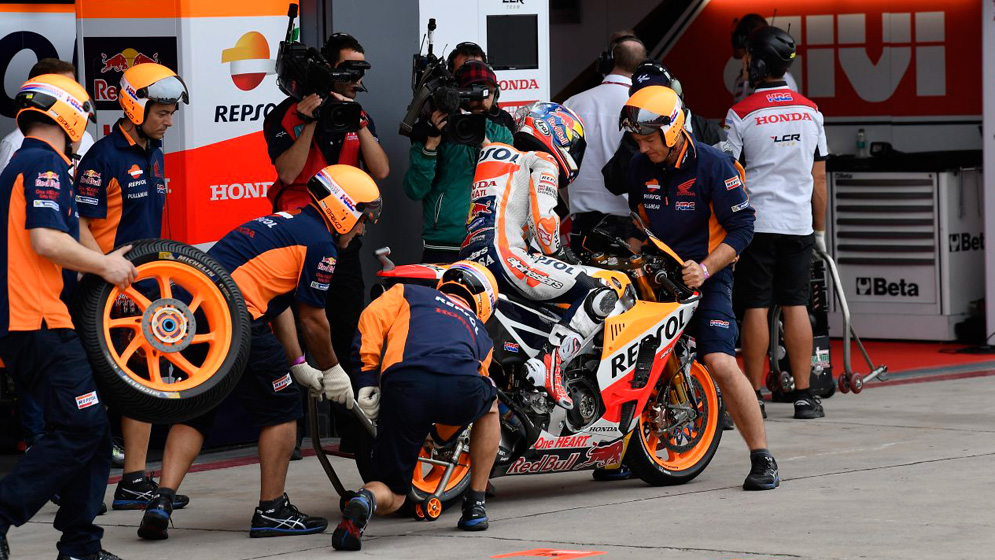helmet: (512, 91, 585, 186), (304, 151, 385, 235), (14, 67, 92, 154), (107, 50, 190, 107), (440, 251, 496, 319)
